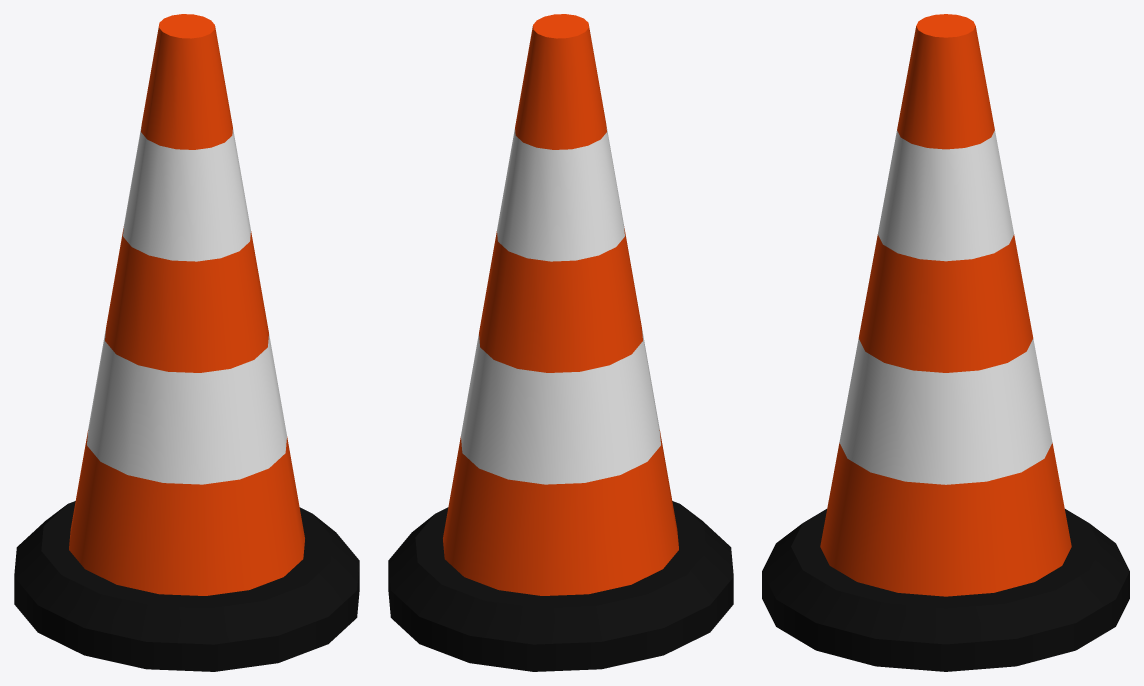
File: Cones_D.fbx
3 views of the same model, side by side, from view 1: azimuth 30°, elevation 25°; view 2: azimuth 150°, elevation 25°; view 3: azimuth 270°, elevation 25° (orthographic).
Visible parts, largest first — view 1: Cones_D; view 2: Cones_D; view 3: Cones_D.
Boxes of the visible parts, box(x1,y1,x2,y2) form: Cones_D: box(14, 14, 359, 671); Cones_D: box(388, 14, 733, 671); Cones_D: box(762, 14, 1129, 671).
Bounding box in the file's own units: 8.77 × 16.01 × 9.32.
